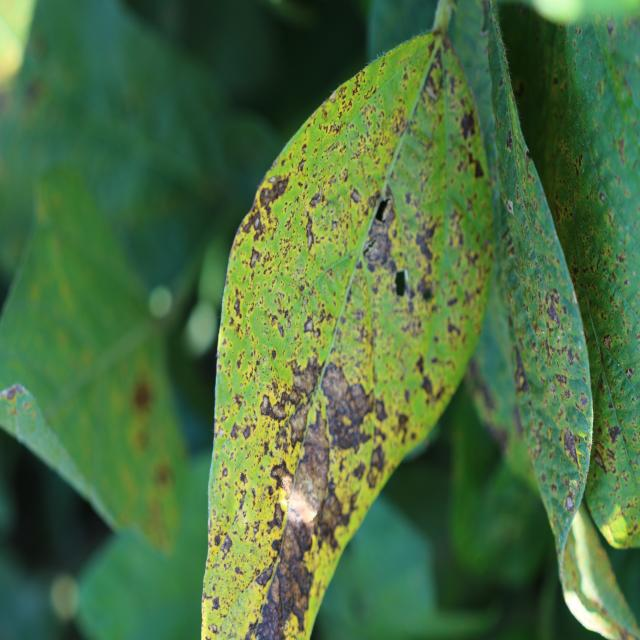Bacterial_Blight: (322, 351, 386, 443), (291, 403, 331, 505), (275, 552, 307, 636), (364, 213, 393, 269), (535, 285, 565, 338), (287, 358, 318, 402), (414, 218, 439, 268), (259, 174, 290, 213), (288, 402, 312, 446), (421, 372, 448, 408), (260, 390, 288, 422), (563, 425, 581, 467), (269, 461, 291, 495), (513, 344, 528, 387), (423, 67, 440, 102), (416, 273, 435, 302), (460, 108, 476, 140), (305, 214, 315, 252), (270, 503, 284, 528), (446, 316, 461, 339), (470, 156, 484, 179), (219, 534, 233, 555), (233, 296, 242, 318), (250, 249, 260, 268)
Soybean: (200, 0, 501, 640)
